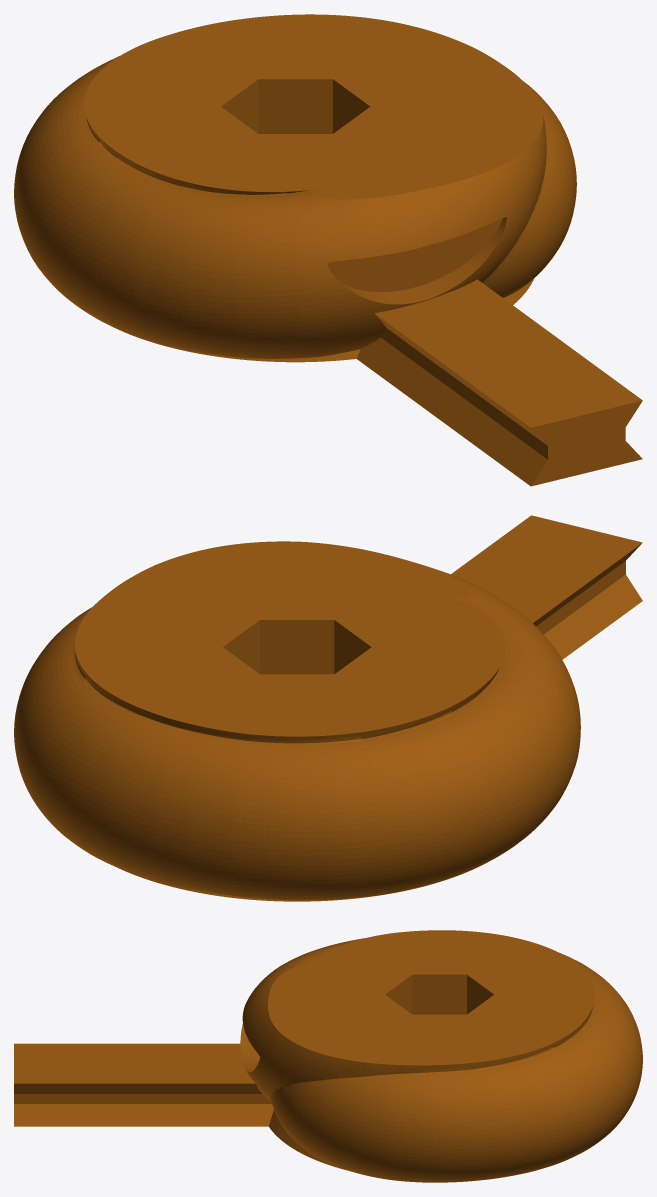
File: poop3.dae
3 renders of one model, top to bottom at view 1: azimuth 30°, elevation 25°; view 2: azimuth 150°, elevation 25°; view 3: azimuth 270°, elevation 25°, orthographic. The views are drawn at different scales.
Visible parts, largest first — view 1: poop3; view 2: poop3; view 3: poop3.
Boxes of the visible parts, <box> form: poop3: <box>14,14,642,486</box>; poop3: <box>14,515,642,901</box>; poop3: <box>14,930,642,1182</box>.
Size of the model in its own units: 0.0876 by 0.133 by 0.0261.
